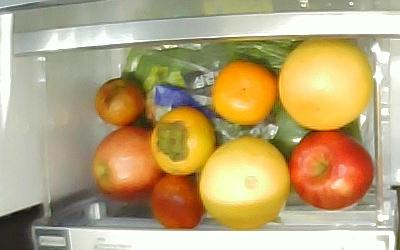apple: (290, 131, 373, 211), (91, 128, 165, 204)
grapefruit: (278, 37, 371, 130), (199, 136, 289, 230)
persimmon: (150, 106, 215, 175), (212, 60, 277, 126)
prune: (151, 174, 205, 229), (95, 77, 144, 127)
